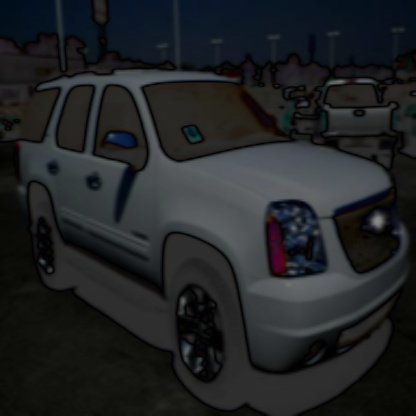Vehicle: (14, 66, 412, 406)
